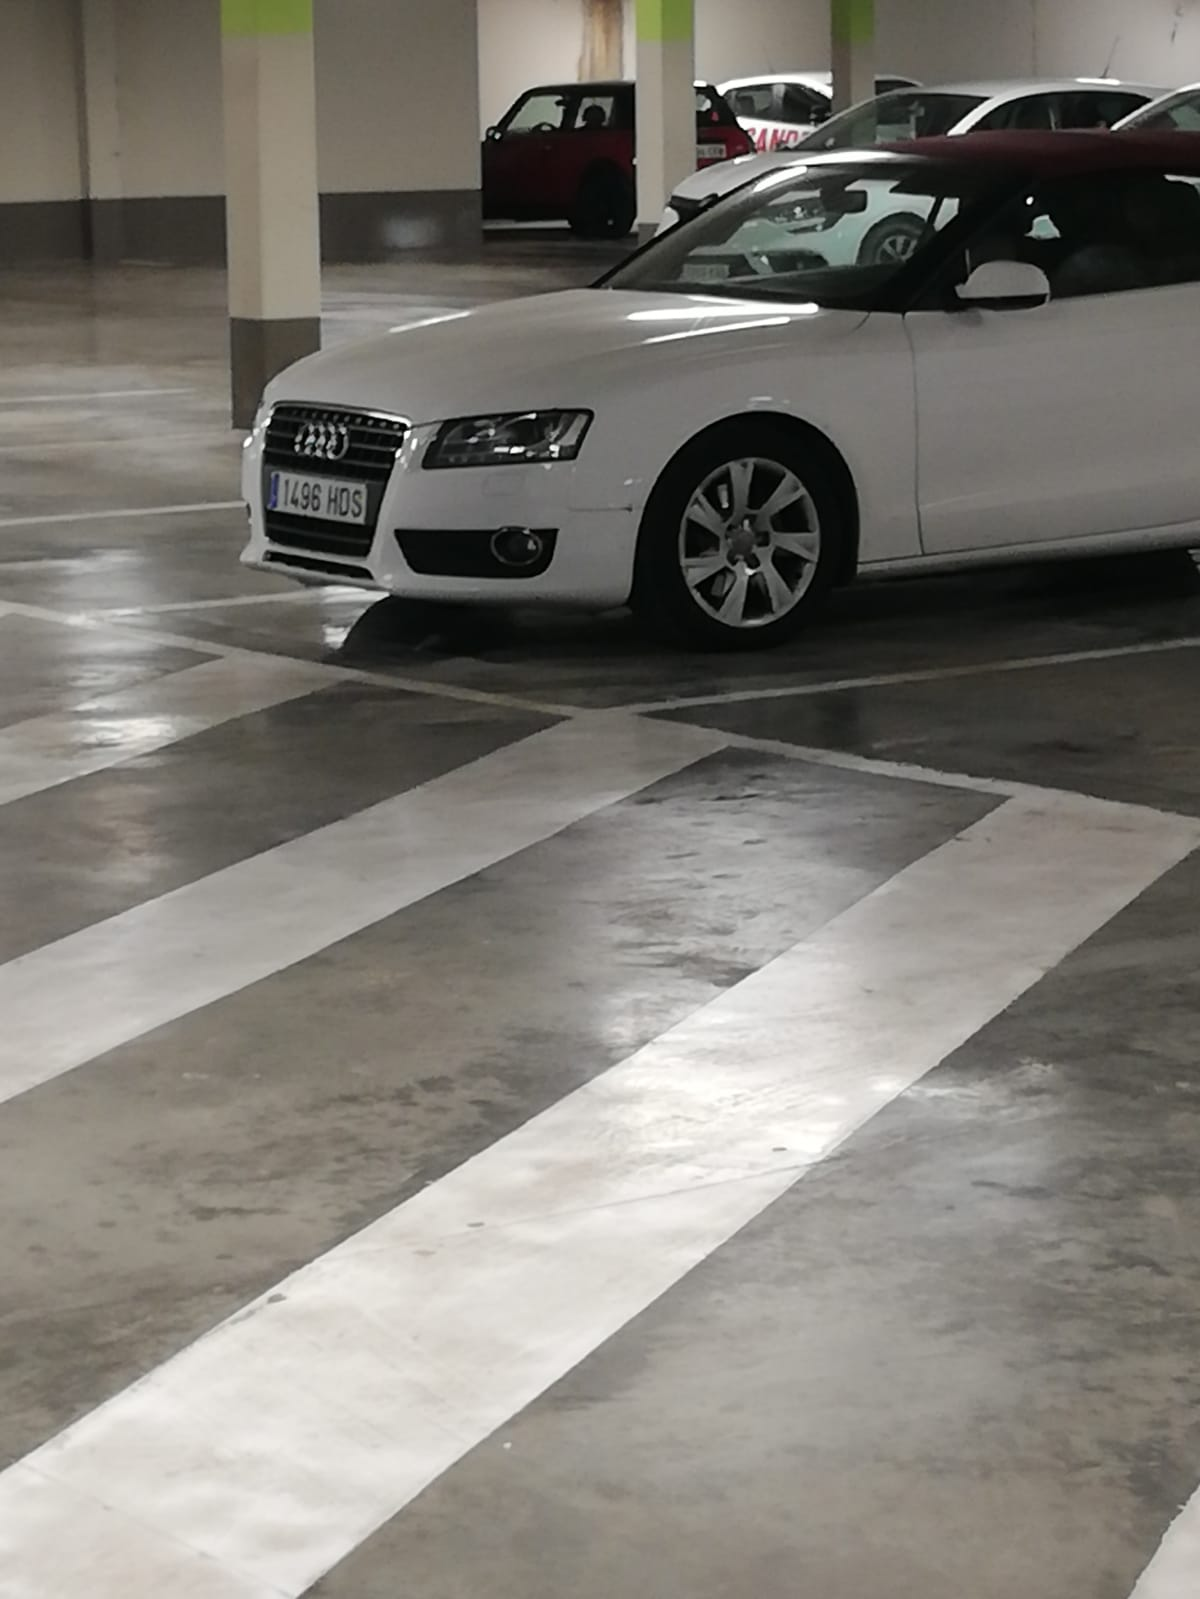Car: (231, 132, 1199, 627)
Plate: (269, 468, 369, 511)
